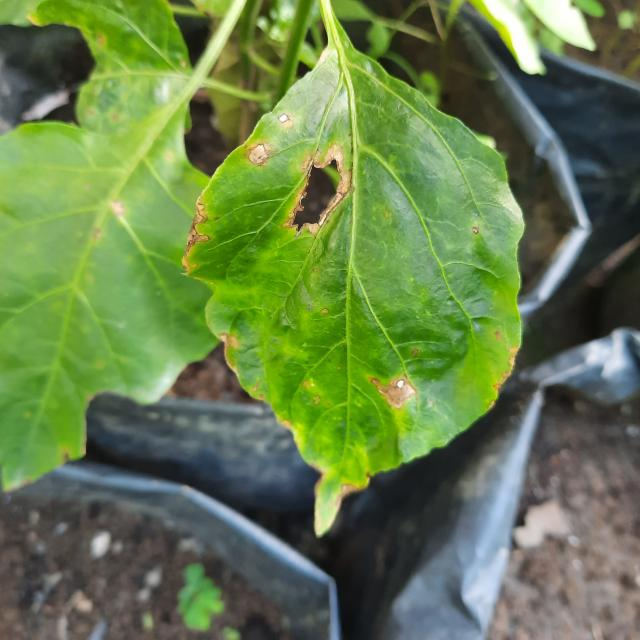bercak_daun: (177, 32, 544, 543)
